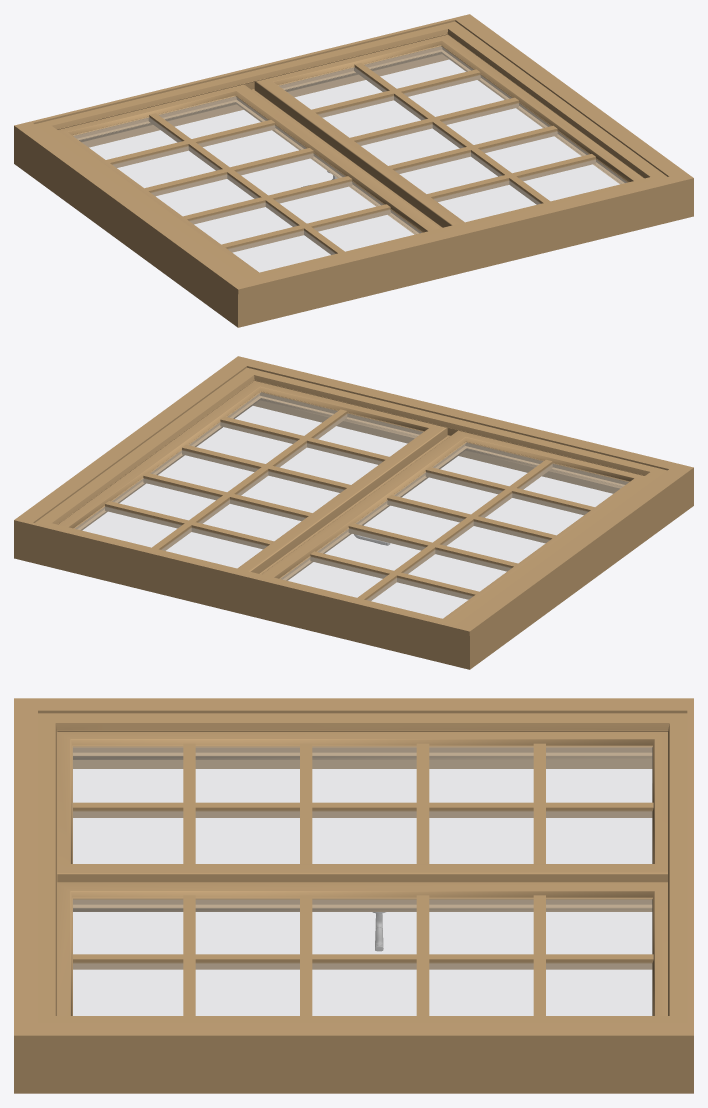
File: 16696_20_Pane_Casement_Window-Pine_V1.obj
The picture shows the model from 3 angles, top to bottom: view 1: azimuth 30°, elevation 25°; view 2: azimuth 150°, elevation 25°; view 3: azimuth 270°, elevation 25°; orthographic projection. The views are drawn at different scales.
Visible parts, largest first — view 1: ram_vrata18, Box20, ram_stakla37, resetke37, resetke38, ram_stakla36; view 2: ram_vrata18, Box20, ram_stakla37, resetke37, resetke38, ram_stakla36; view 3: ram_vrata18, Box20, ram_stakla36, ram_stakla37, resetke38, resetke37.
Part boxes in pixels (x1,y1,x2,y2): ram_vrata18: [35, 21, 667, 279]; Box20: [14, 14, 693, 327]; ram_stakla37: [252, 34, 643, 227]; resetke37: [106, 113, 390, 254]; resetke38: [311, 63, 595, 204]; ram_stakla36: [58, 84, 440, 273]; ram_vrata18: [35, 367, 667, 625]; Box20: [14, 356, 693, 669]; ram_stakla37: [58, 381, 450, 574]; resetke37: [310, 459, 594, 600]; resetke38: [105, 409, 388, 550]; ram_stakla36: [262, 430, 644, 619]; ram_vrata18: [38, 713, 687, 1022]; Box20: [14, 698, 693, 1093]; ram_stakla36: [57, 731, 667, 881]; ram_stakla37: [57, 882, 667, 1015]; resetke38: [73, 895, 653, 1015]; resetke37: [73, 743, 653, 863].
Bounding box in the file's own units: 122 × 9.84 × 104.
